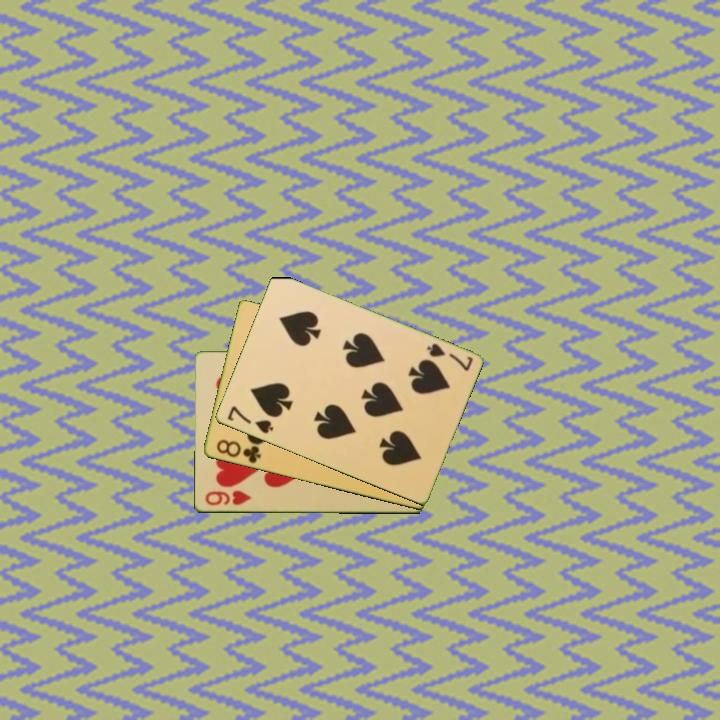7s: (223, 403, 276, 437), (423, 340, 476, 374)
8c: (212, 436, 264, 466)
9h: (201, 487, 254, 509)
